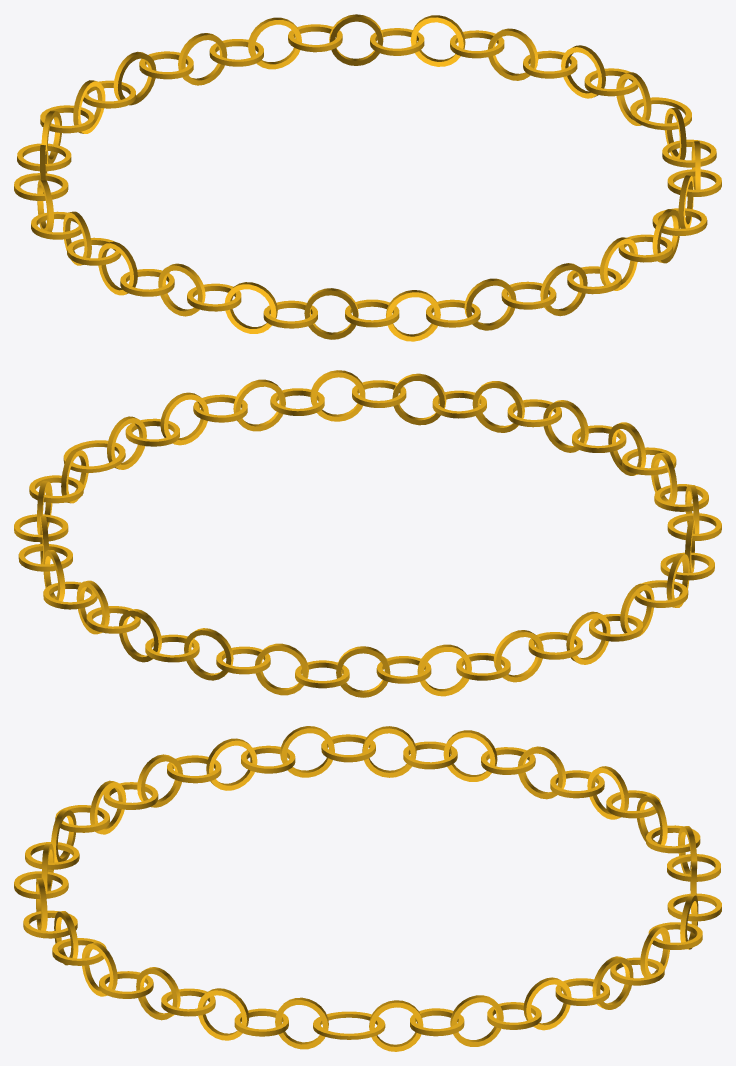
Rendered from Bracelet_AG.FBX.
The picture shows the model from 3 angles, top to bottom: view 1: azimuth 30°, elevation 25°; view 2: azimuth 150°, elevation 25°; view 3: azimuth 270°, elevation 25°; orthographic projection.
Parts seen in each view (by area): view 1: Bracelet; view 2: Bracelet; view 3: Bracelet.
Part boxes in pixels (bbox=[...]): Bracelet: bbox=[14, 14, 721, 341]; Bracelet: bbox=[14, 370, 721, 697]; Bracelet: bbox=[14, 726, 721, 1051].
Size of the model in its own units: 3.64 by 0.2792 by 3.62.
